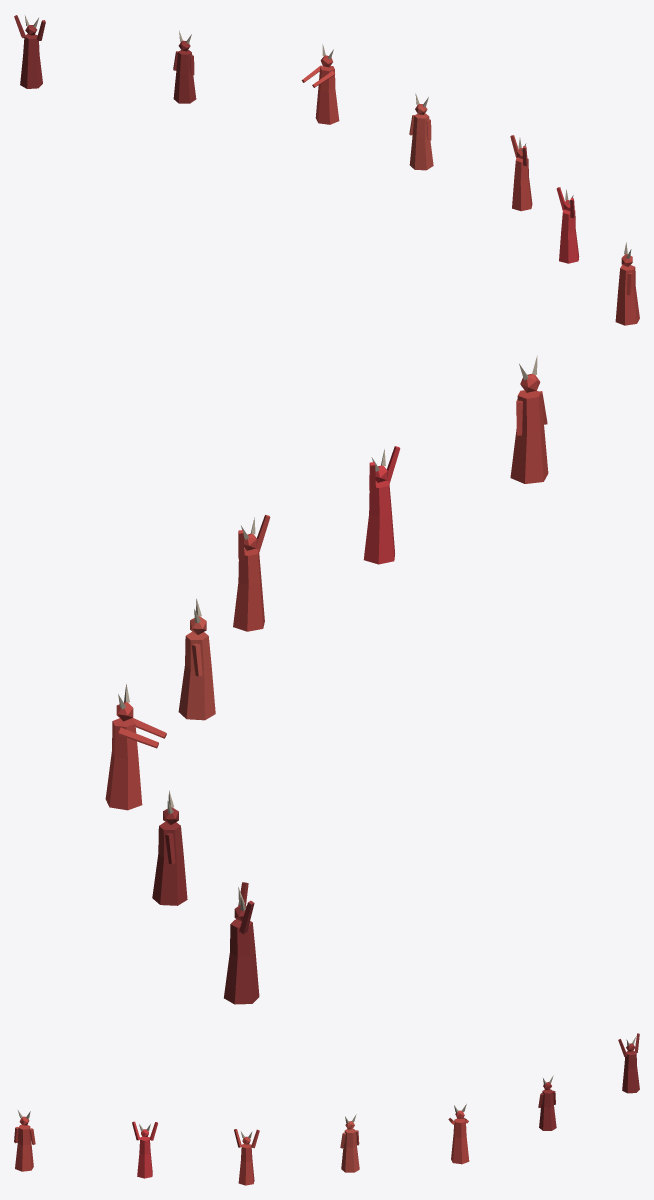
The model's file is Stands_3_1_2.obj.
3 views of the same model, one above another, from view 1: azimuth 30°, elevation 25°; view 2: azimuth 150°, elevation 25°; view 3: azimuth 270°, elevation 25° (orthographic). The views are drawn at different scales.
Visible parts, largest first — view 1: Stands_3_1_2; view 2: Stands_3_1_2; view 3: Stands_3_1_2.
Boxes of the visible parts, <box> form: Stands_3_1_2: <box>14,15,639,325</box>; Stands_3_1_2: <box>105,355,548,1004</box>; Stands_3_1_2: <box>14,1033,639,1185</box>.
Size of the model in its own units: 12.04 by 3.27 by 31.73.
Materials: 1 (1 with a texture image).
